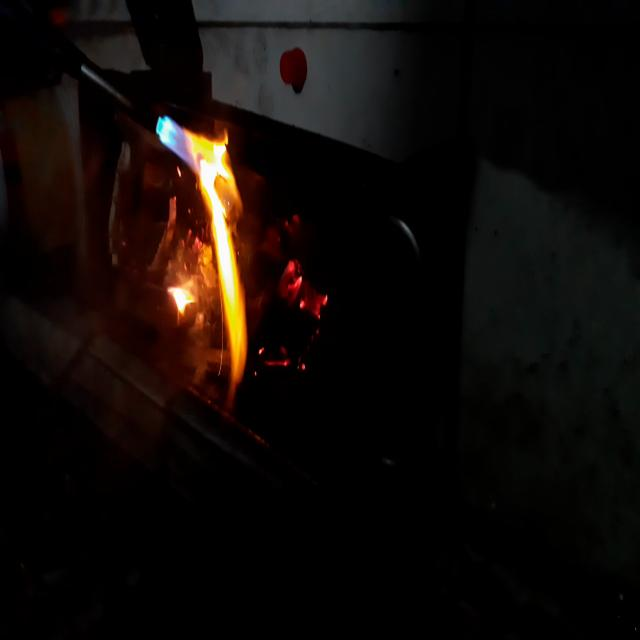Fire: (142, 108, 258, 410), (265, 215, 341, 408)
